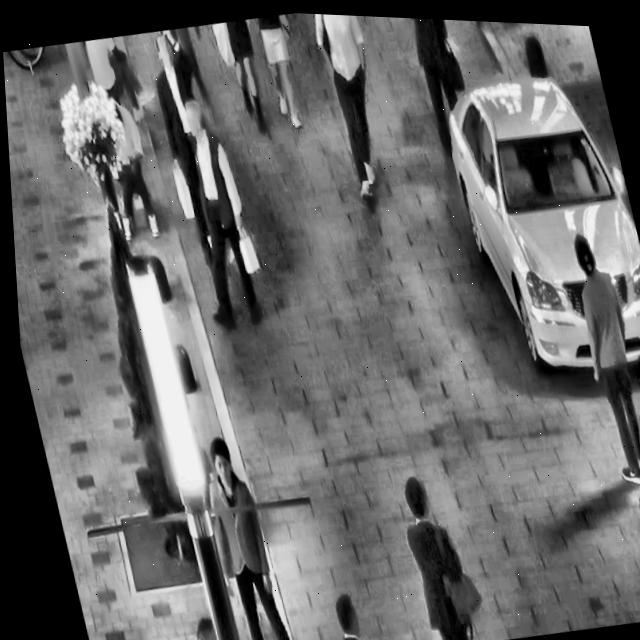light_vehicle: (424, 37, 640, 392)
